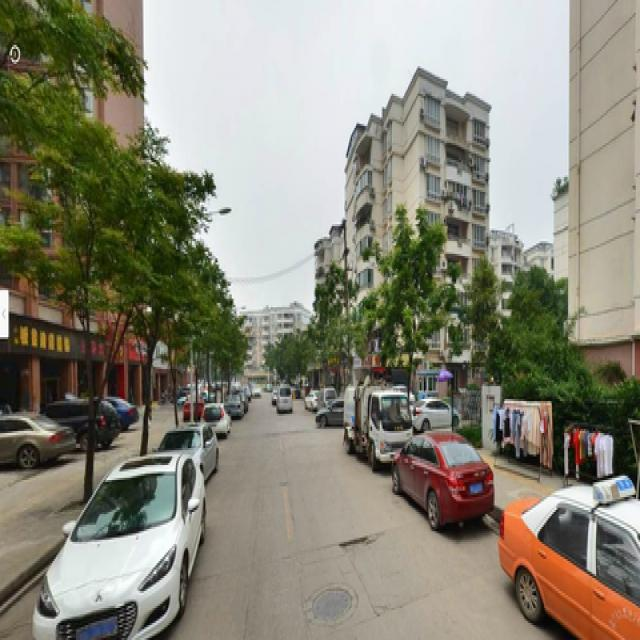koel: (24, 134, 133, 487)
